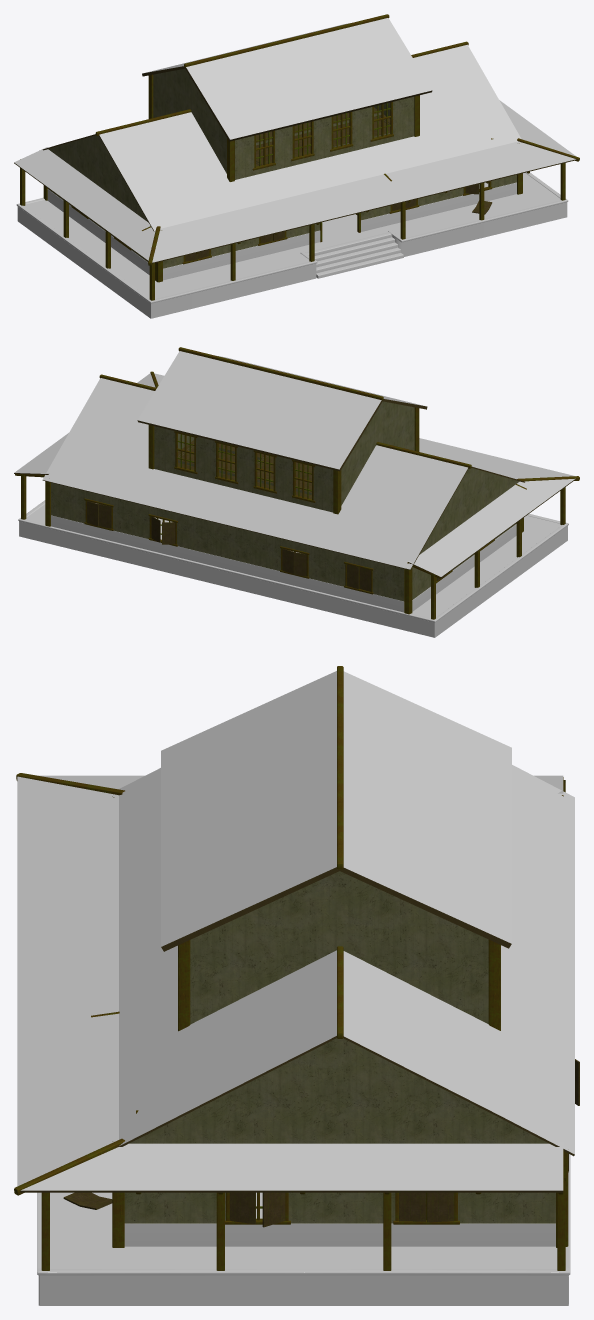
File: Fazenda_2Jun 1.fbx
3 views of the same model, one above another, from view 1: azimuth 30°, elevation 25°; view 2: azimuth 150°, elevation 25°; view 3: azimuth 270°, elevation 25° (orthographic). The views are drawn at different scales.
Parts seen in each view (by area): view 1: polySurface1; view 2: polySurface1; view 3: polySurface1.
Boxes of the visible parts, x1,y1,x2,y2 form: polySurface1: (14, 14, 579, 318); polySurface1: (14, 347, 579, 637); polySurface1: (14, 666, 579, 1305).
Bounding box in the file's own units: 3056 × 1168 × 1750.
